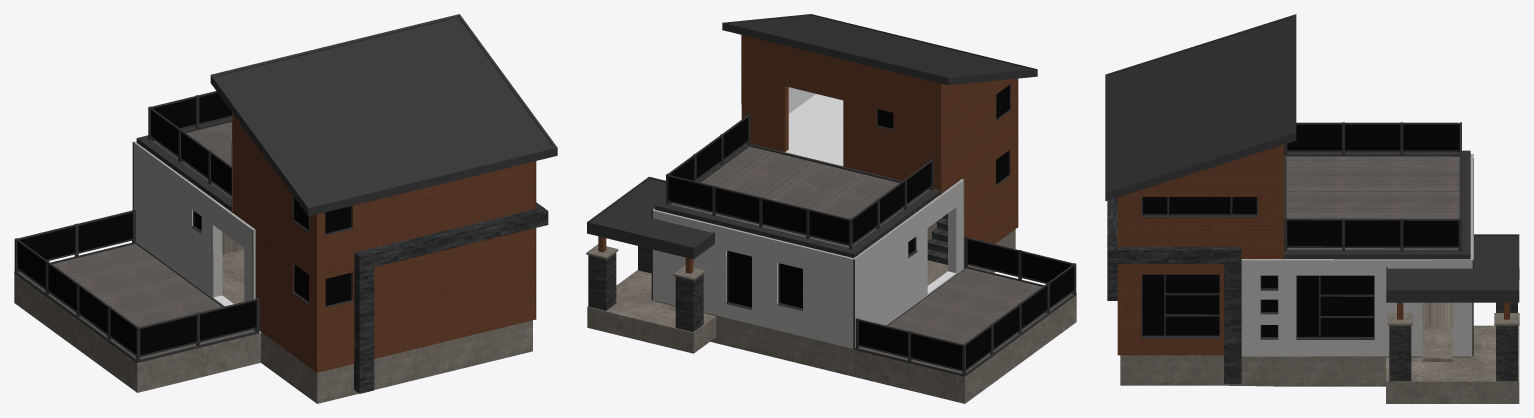
File: modern_house_with_interior.glb
The picture shows the model from 3 angles, left to right: view 1: azimuth 30°, elevation 25°; view 2: azimuth 150°, elevation 25°; view 3: azimuth 270°, elevation 25°; orthographic projection. The views are drawn at different scales.
Visible parts, largest first — view 1: HouseSpodok.001_1, House.001_0; view 2: HouseSpodok.001_1, House.001_0; view 3: House.001_0, HouseSpodok.001_1.
Boxes of the visible parts, box(x1,y1,x2,y2) form: HouseSpodok.001_1: box(14, 142, 536, 403); House.001_0: box(133, 14, 557, 275); HouseSpodok.001_1: box(586, 78, 1076, 403); House.001_0: box(652, 14, 1037, 259); House.001_0: box(1105, 14, 1473, 263); HouseSpodok.001_1: box(1107, 158, 1519, 403).
Bounding box in the file's own units: 10.19 × 6.65 × 9.55.
2 materials, 2 textured.
